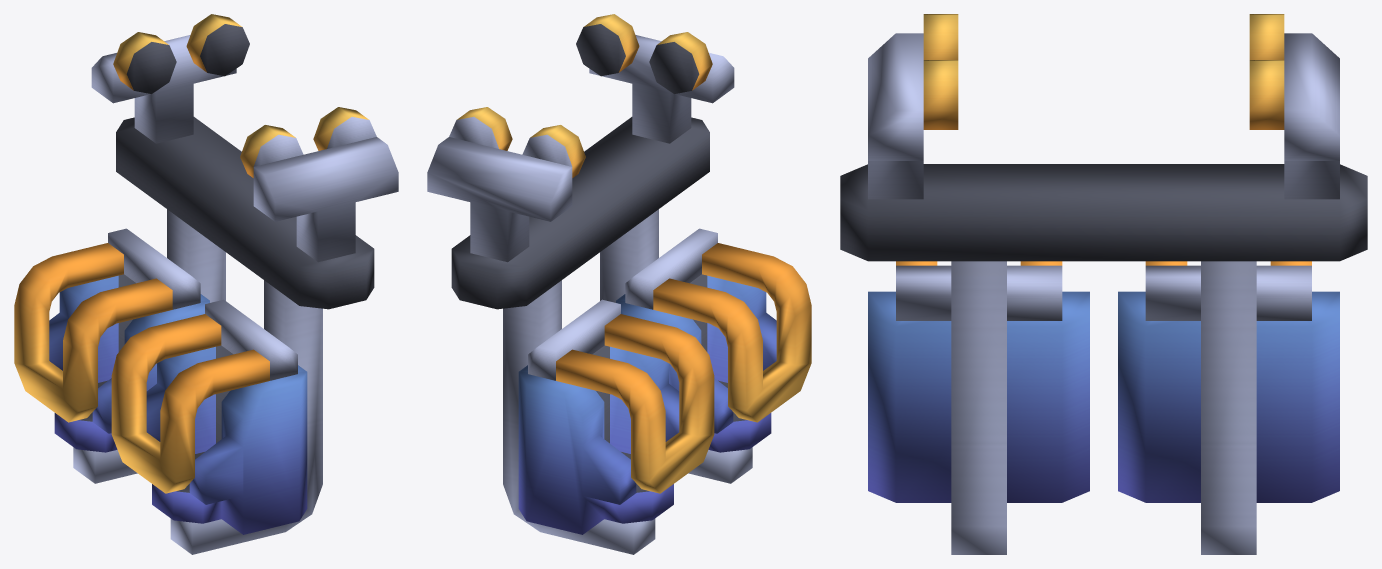
File: coaster_train.obj
3 views of the same model, side by side, from view 1: azimuth 30°, elevation 25°; view 2: azimuth 150°, elevation 25°; view 3: azimuth 270°, elevation 25° (orthographic). The views are drawn at different scales.
Parts seen in each view (by area): view 1: coaster-train-hanging; view 2: coaster-train-hanging; view 3: coaster-train-hanging.
Boxes of the visible parts, box(x1,y1,x2,y2) form: coaster-train-hanging: box(14, 14, 398, 554); coaster-train-hanging: box(427, 14, 811, 554); coaster-train-hanging: box(840, 14, 1367, 554).
Bounding box in the file's own units: 1.89 × 3.49 × 3.17.
Materials: 1 (1 with a texture image).
